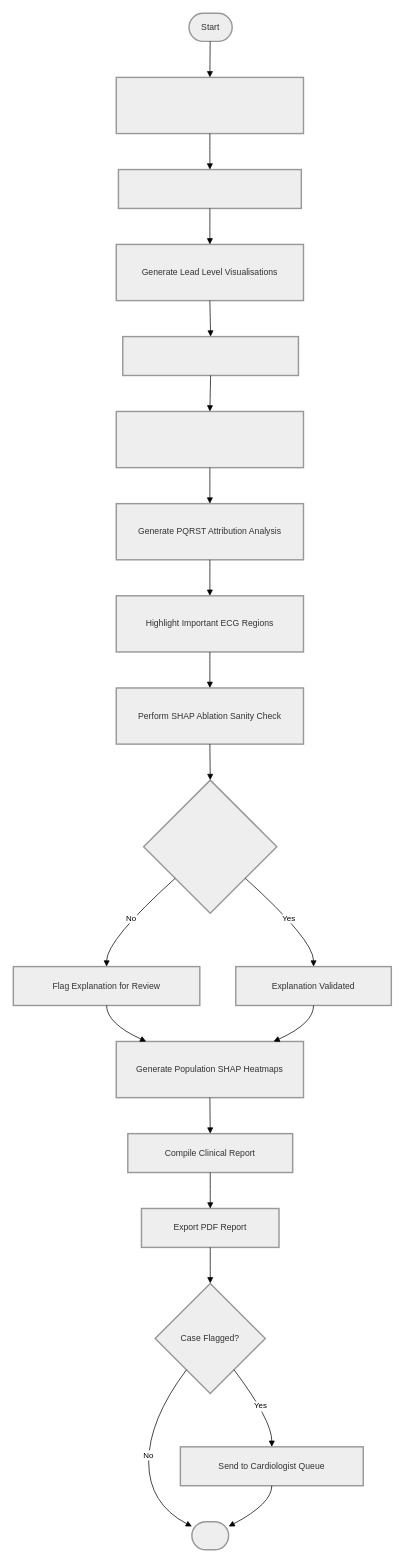
Image size: 404x1562. Some labels were removed from this diagram. Each missing label, with the centre of its shape:
Compute SHAP Attributions: (209,188)
Confidence Drops?: (210,846)
End: (210,1535)
Generate SHAP Heatmaps: (210,356)
Perform Lead Importance Analysis: (209,439)
Select Confirmed and Probable Diagnoses: (209,105)
